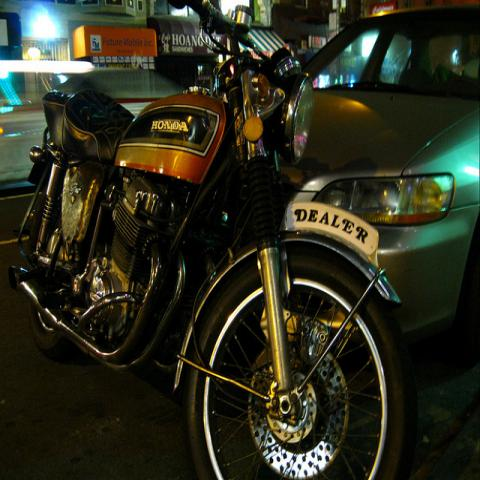car: (292, 5, 479, 356), (0, 69, 187, 185)
motorcycle: (13, 1, 408, 474)
